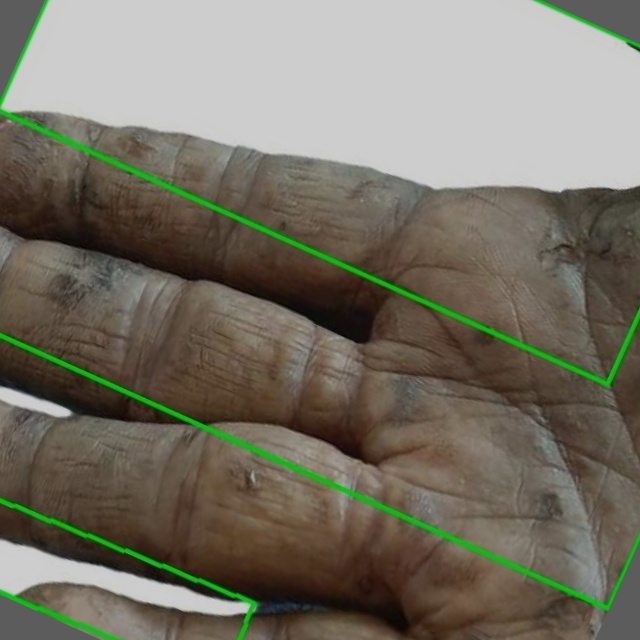Eczema: (0, 0, 639, 608), (0, 0, 639, 384)
